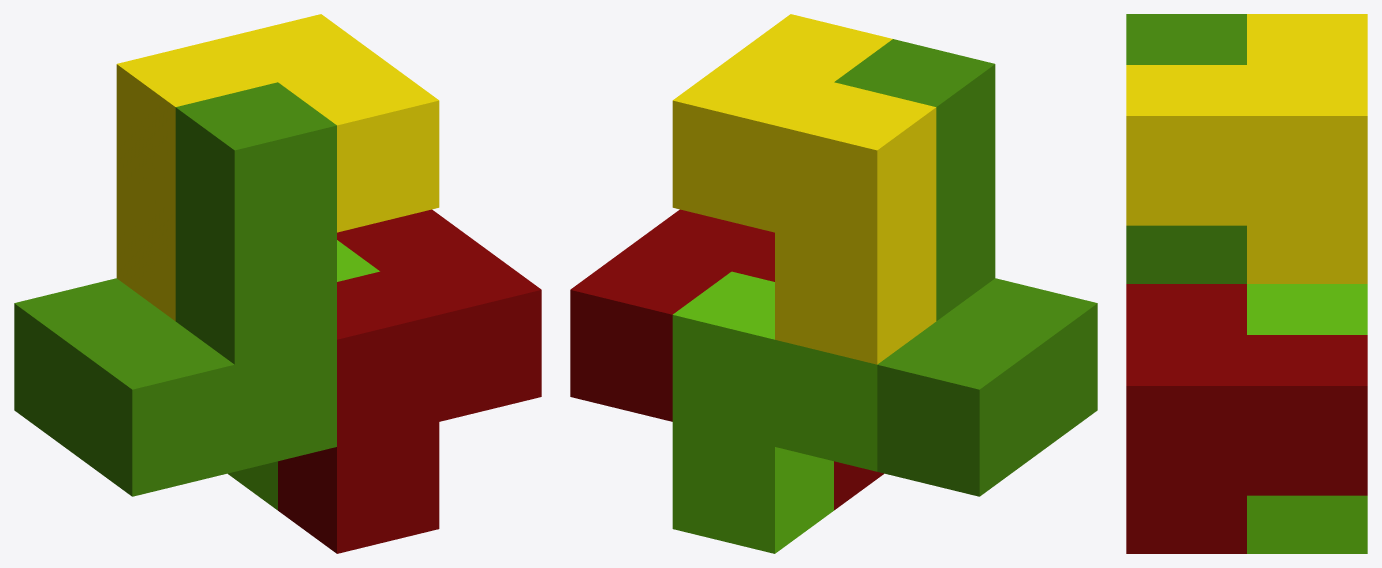
The picture shows the model from 3 angles, left to right: view 1: azimuth 30°, elevation 25°; view 2: azimuth 150°, elevation 25°; view 3: azimuth 270°, elevation 25°; orthographic projection. The views are drawn at different scales.
Parts seen in each view (by area): view 1: mergedBlocks(Clone); view 2: mergedBlocks(Clone); view 3: mergedBlocks(Clone).
Part boxes in pixels (box(x1,y1,x2,y2)): mergedBlocks(Clone): box(14, 14, 541, 553); mergedBlocks(Clone): box(570, 14, 1097, 553); mergedBlocks(Clone): box(1126, 14, 1367, 553).
Bounding box in the file's own units: 4 × 4 × 2.
4 materials, 4 textured.
